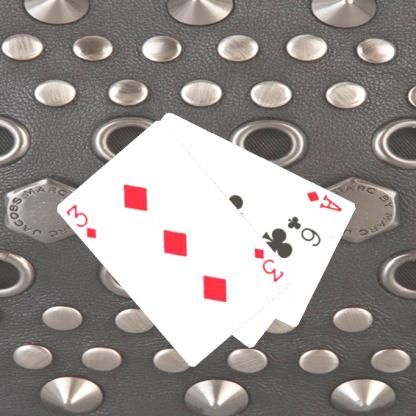3D: (63, 202, 99, 240), (251, 245, 286, 284)
6C: (284, 213, 324, 248)
AD: (304, 188, 344, 214)
